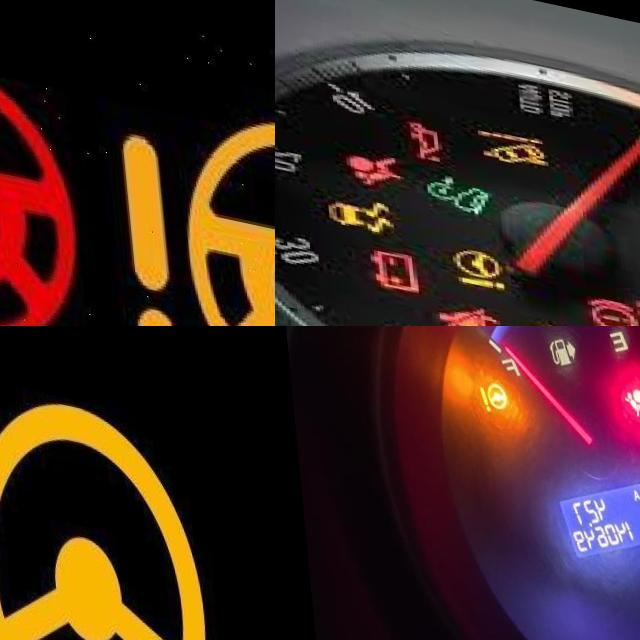Electronic Power Steering: (0, 356, 213, 640), (445, 230, 501, 279), (469, 366, 508, 412)
Electronic Power Steering Warning: (110, 73, 275, 326), (0, 24, 75, 326)
Seat Belt: (427, 285, 492, 326)
